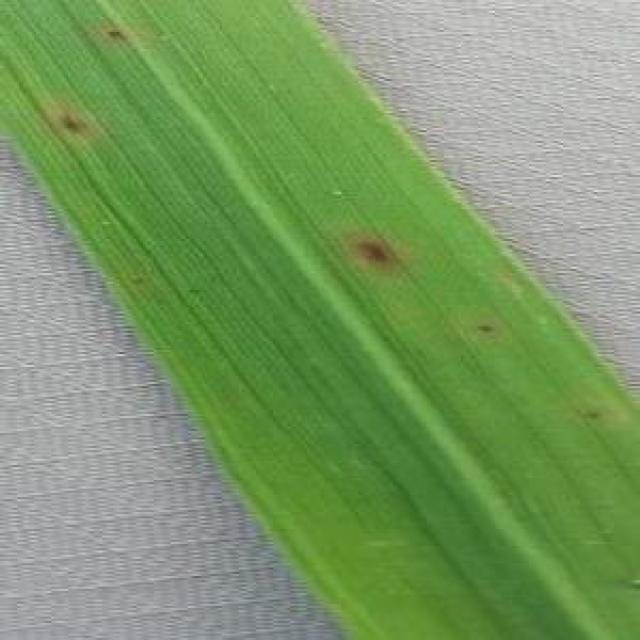Brown_Spot: (346, 229, 406, 279), (98, 21, 136, 51), (56, 108, 81, 138), (468, 320, 503, 340)
